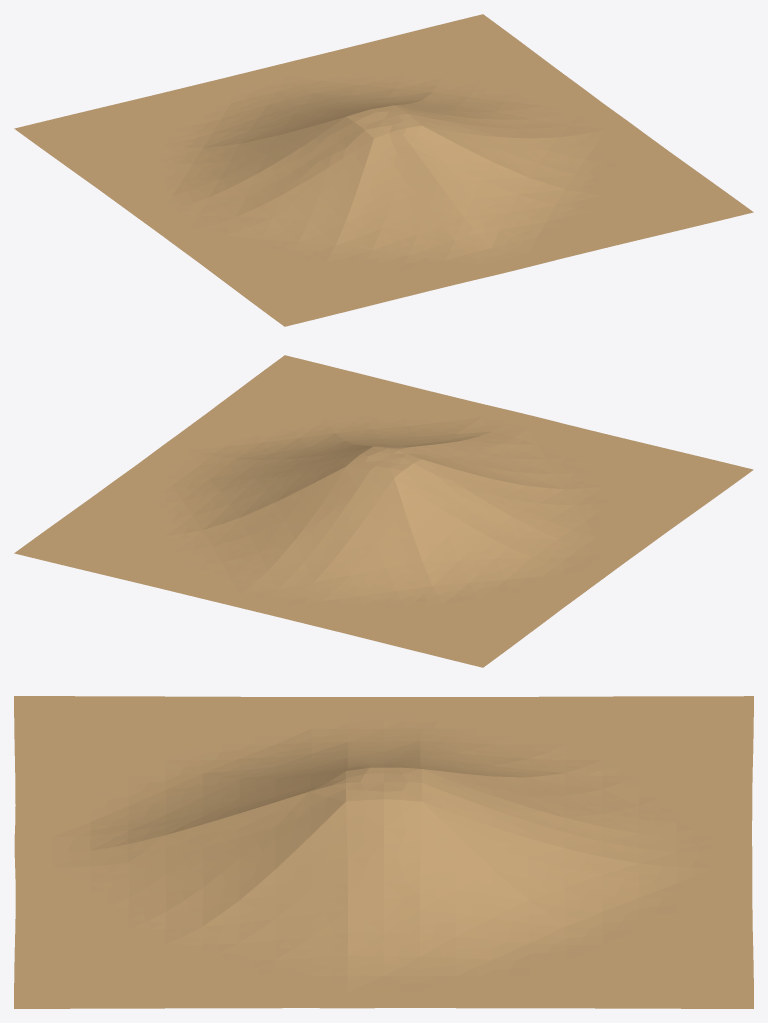
File: level_1.glb
3 renders of one model, top to bottom at view 1: azimuth 30°, elevation 25°; view 2: azimuth 150°, elevation 25°; view 3: azimuth 270°, elevation 25°, orthographic. The views are drawn at different scales.
Parts seen in each view (by area): view 1: world; view 2: world; view 3: world.
Boxes of the visible parts, <box> form: world: <box>14,14,753,326</box>; world: <box>14,355,753,667</box>; world: <box>14,696,753,1008</box>.
Size of the model in its own units: 0.6437 by 0.068 by 0.6436.
